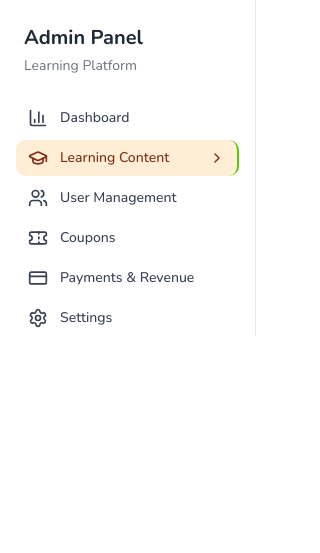
Test: AdminSidebar › allows expanding the certifications menu and shows submenu items
Click the button "Learning Content".
click(128, 158)  # box x1=16 y1=140 x2=239 y2=176
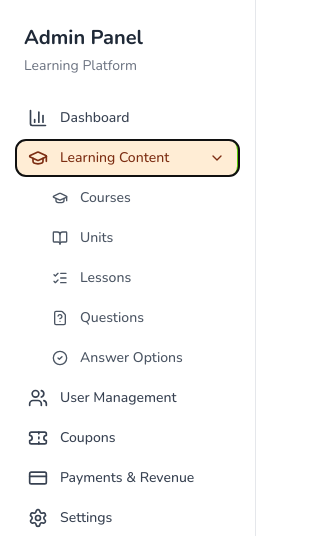
Expected: the link "Courses" is shown, x1=52 y1=188 x2=131 y2=207
Expected: the link "Lessons" is shown, x1=52 y1=268 x2=131 y2=287
